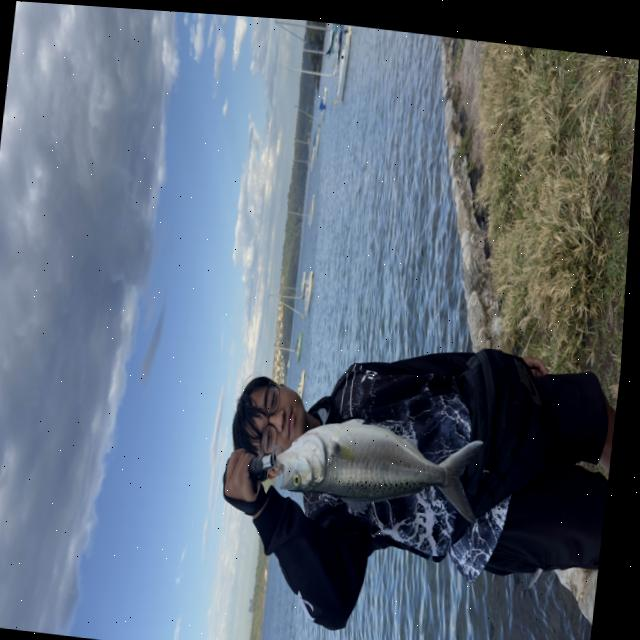Australian Salmon: (277, 381, 501, 532)
